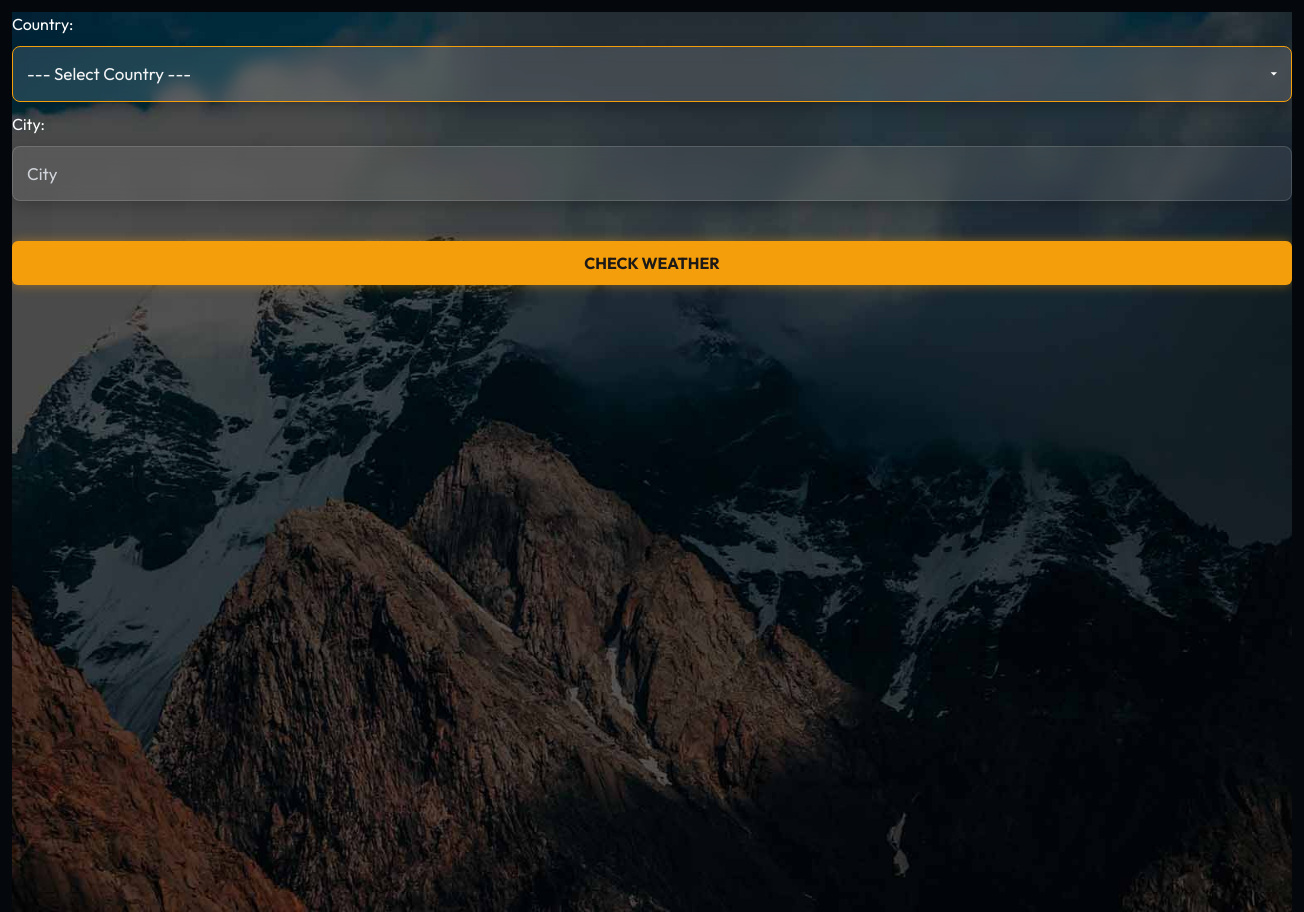
Test: Form › announces a validation message and does not search when the form is empty
Click the button "Check weather" at (652, 263), box [12,241,1292,285]
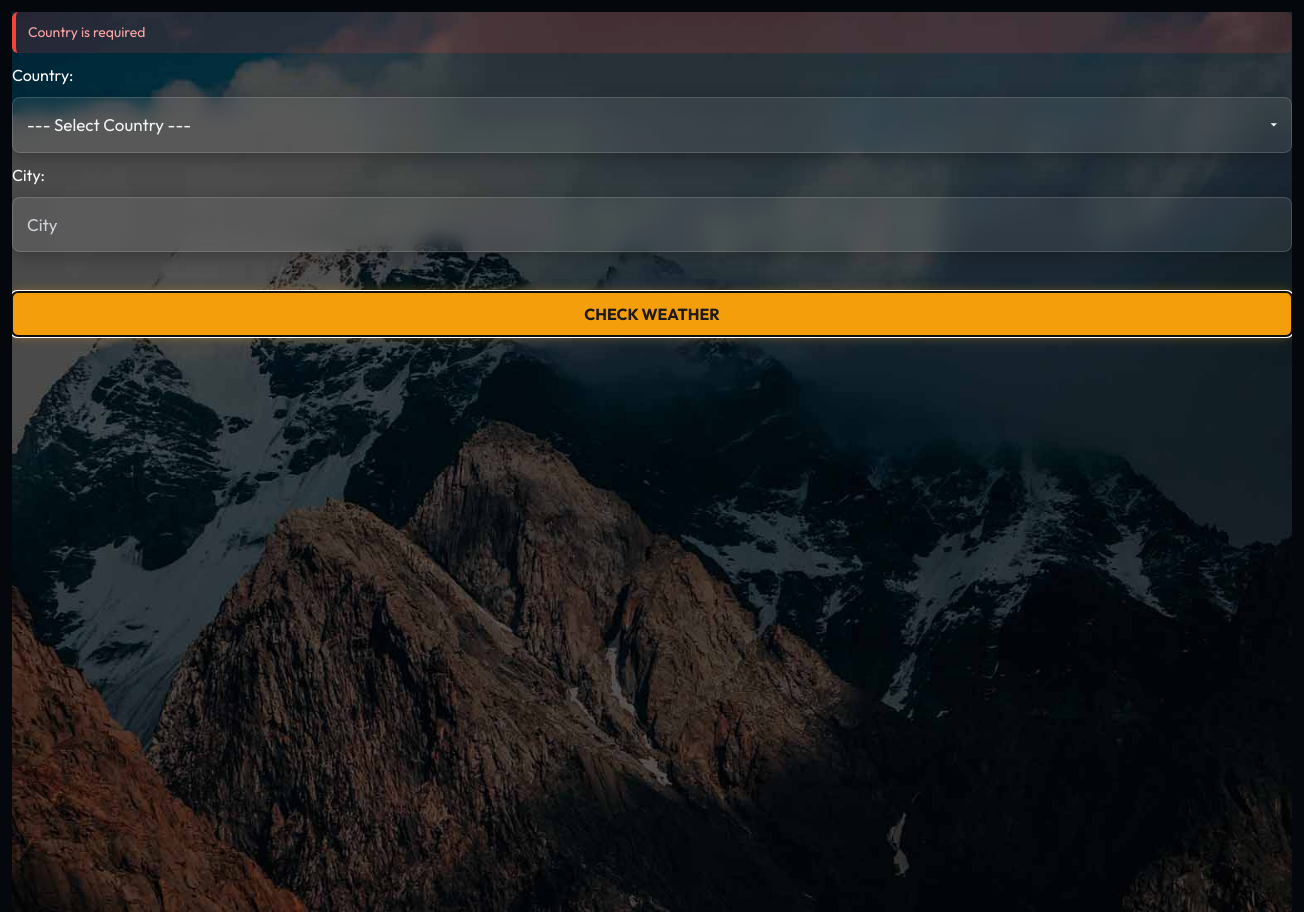
Check: the message reads "Country is required", box [28,23,145,41]
